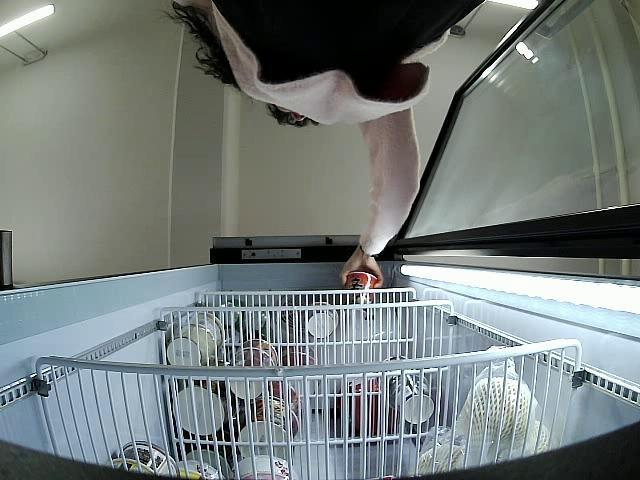02_shinRamen_S: (346, 270, 378, 304)
